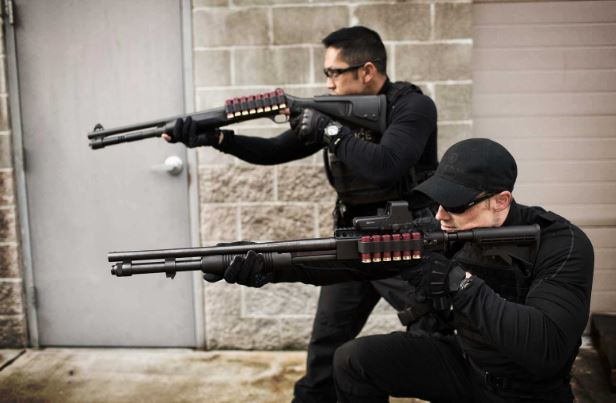weapon: (104, 199, 540, 285), (86, 89, 386, 153)
